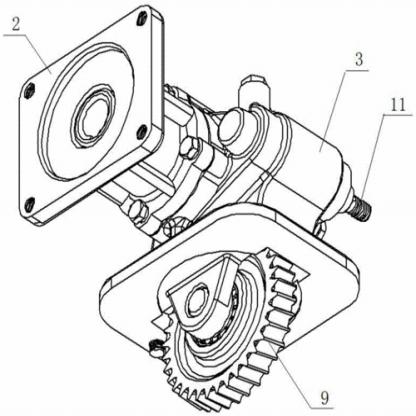FOD: (158, 240, 302, 415)
